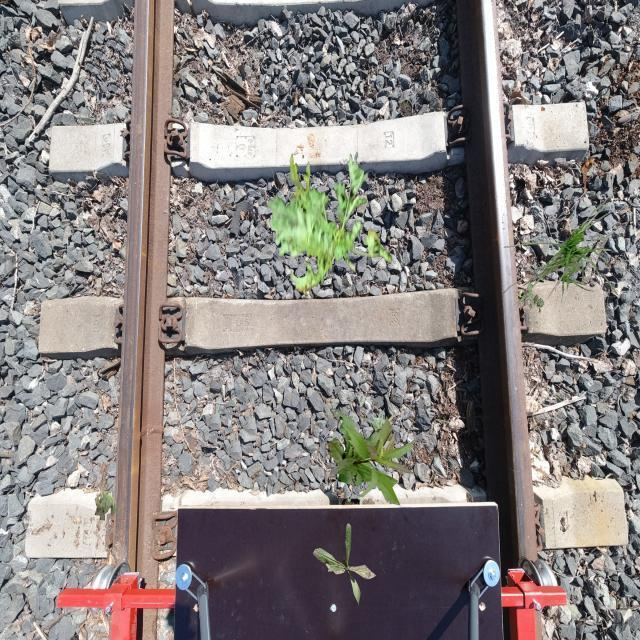Plant: (267, 151, 392, 298), (502, 196, 620, 318), (328, 408, 416, 506), (313, 523, 377, 607), (363, 408, 396, 442), (95, 489, 121, 521), (517, 282, 544, 312)
